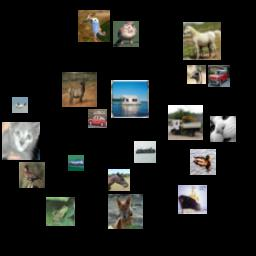airplane: (12, 97, 28, 113)
automobile: (208, 65, 230, 87), (88, 109, 107, 128), (68, 155, 84, 171)
bird: (78, 10, 110, 42), (190, 149, 216, 175), (113, 21, 139, 47), (19, 162, 45, 188), (187, 65, 206, 84)
cat: (2, 122, 40, 160), (210, 116, 236, 142)
deer: (62, 72, 97, 107)
dog: (108, 194, 143, 229)
frog: (46, 197, 75, 226)
ship: (111, 80, 149, 118), (178, 185, 207, 214), (134, 141, 156, 163)
truck: (168, 105, 203, 140)
